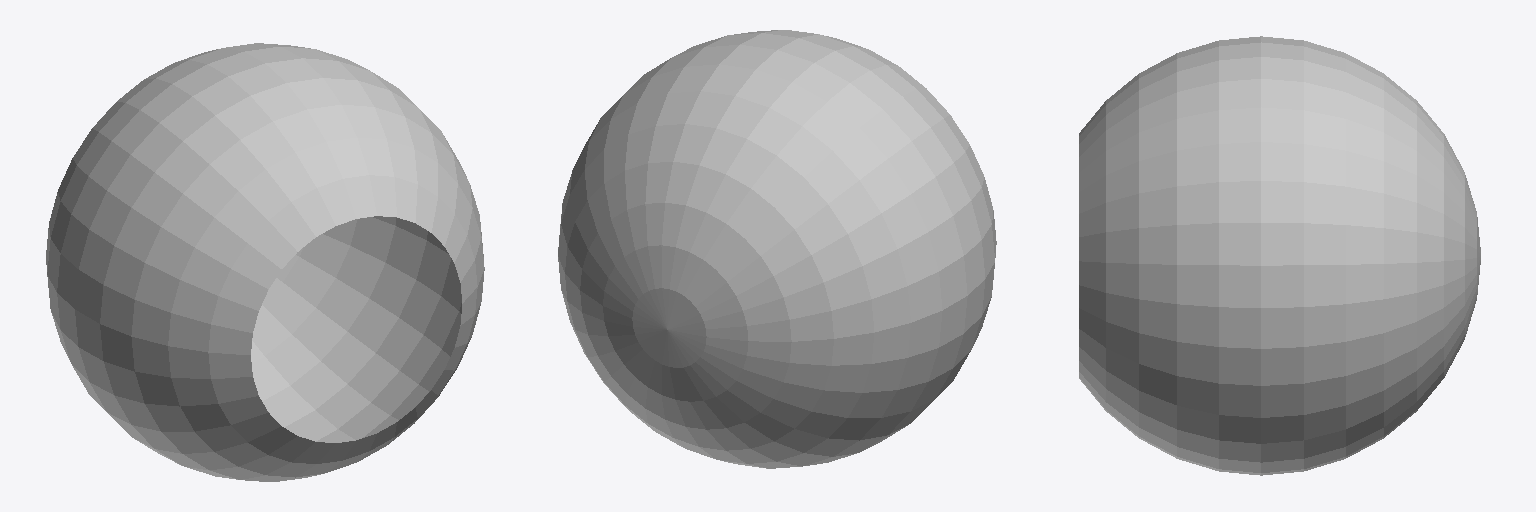
The model's file is glumb_eye1.obj.
3 renders of one model, left to right at view 1: azimuth 30°, elevation 25°; view 2: azimuth 150°, elevation 25°; view 3: azimuth 270°, elevation 25°, orthographic.
Parts seen in each view (by area): view 1: Eye_Sphere.002; view 2: Eye_Sphere.002; view 3: Eye_Sphere.002.
Part boxes in pixels (bbox=[...]): Eye_Sphere.002: bbox=[46, 43, 484, 481]; Eye_Sphere.002: bbox=[558, 30, 996, 468]; Eye_Sphere.002: bbox=[1079, 36, 1480, 475].
Size of the model in its own units: 1.28 by 1.28 by 1.17.